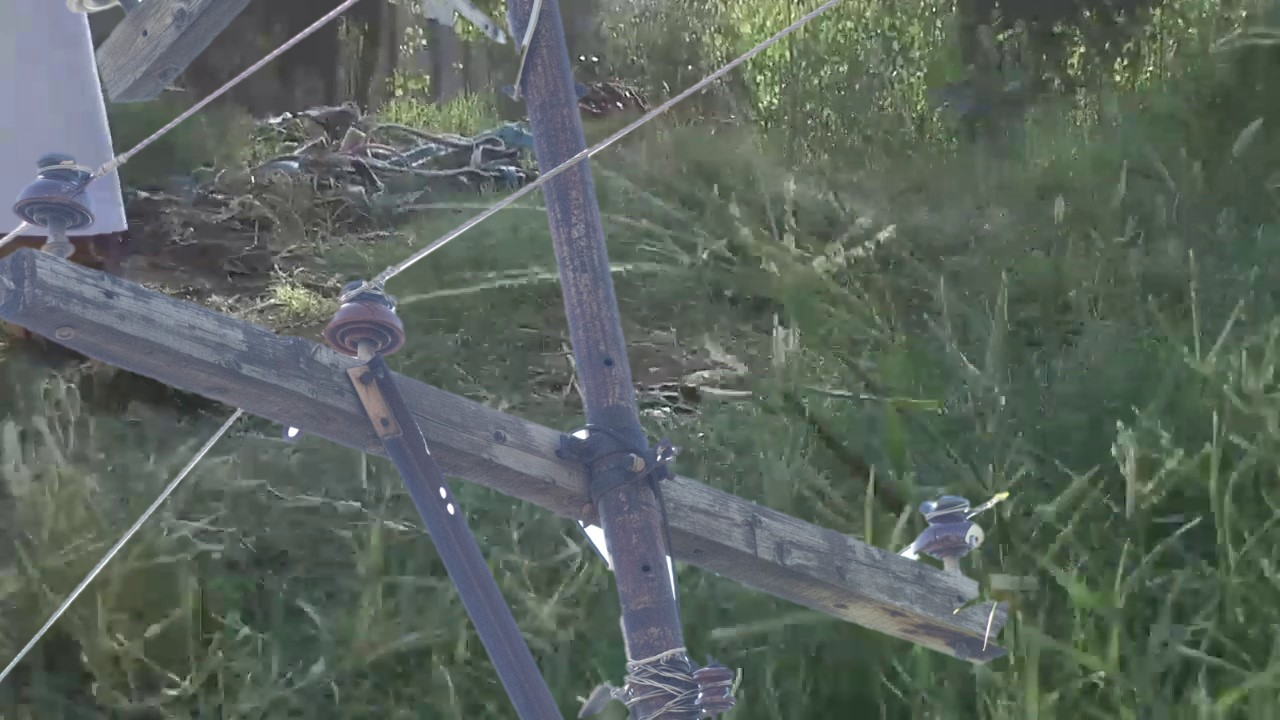defect_pin: (913, 491, 988, 562)
insulator_pin: (14, 153, 100, 235), (325, 284, 409, 363)
